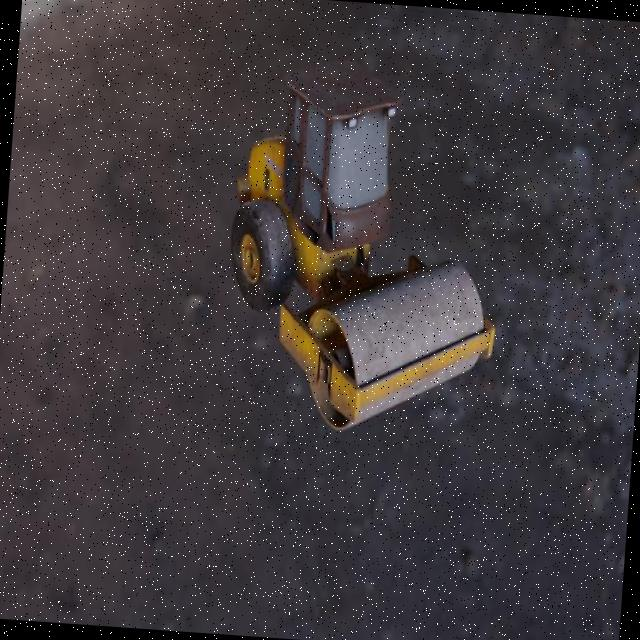Roller: (217, 52, 513, 439)
